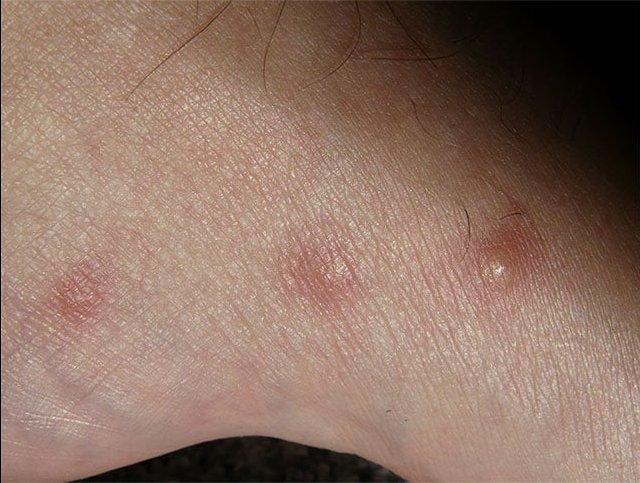Fleas: (460, 211, 550, 298), (43, 255, 120, 329), (288, 251, 359, 302)
